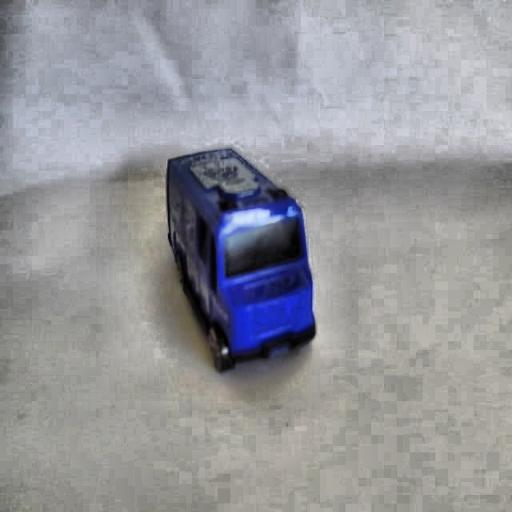police car: (164, 154, 319, 364)
